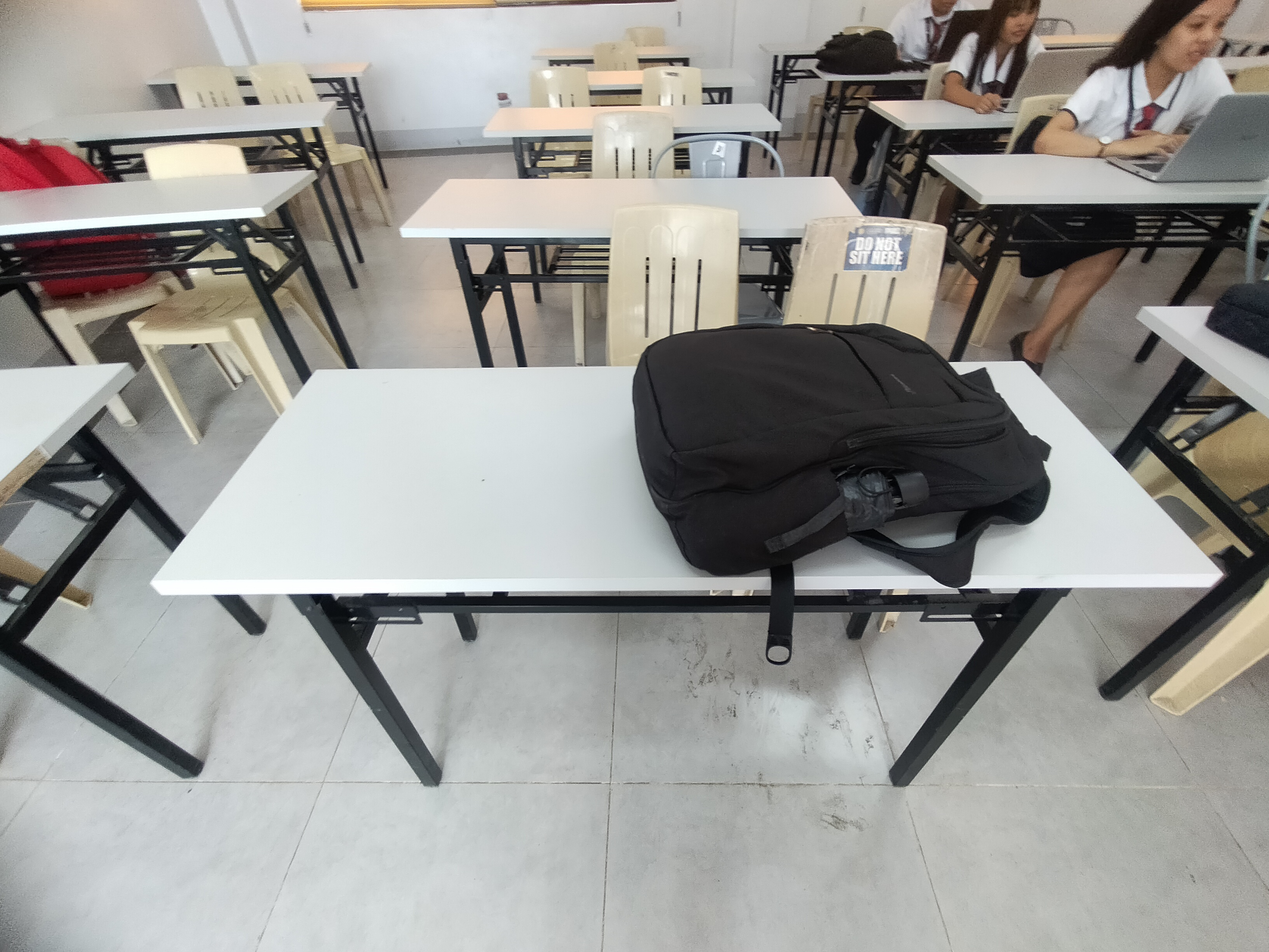with-student: (926, 2, 1269, 268), (860, 0, 1142, 154), (799, 1, 1063, 97)
